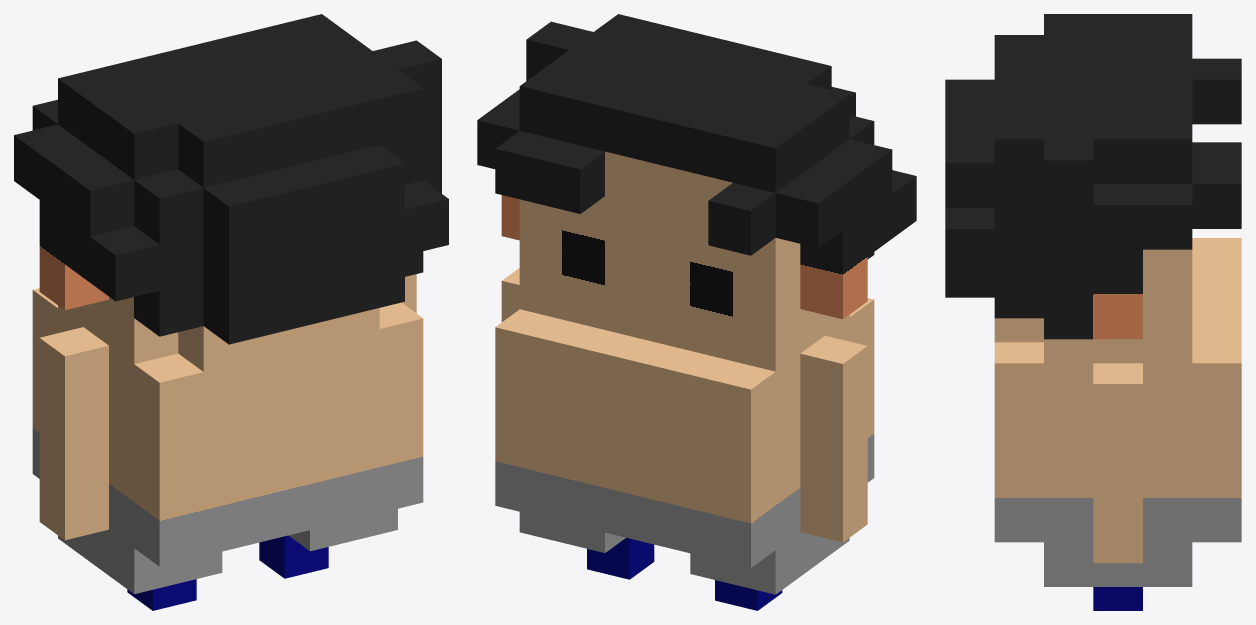
File: chr_naked1.dae
3 views of the same model, side by side, from view 1: azimuth 30°, elevation 25°; view 2: azimuth 150°, elevation 25°; view 3: azimuth 270°, elevation 25° (orthographic). The views are drawn at different scales.
Visible parts, largest first — view 1: chr_naked1; view 2: chr_naked1; view 3: chr_naked1.
Boxes of the visible parts, x1,y1,x2,y2 form: chr_naked1: [14, 14, 448, 610]; chr_naked1: [477, 14, 916, 610]; chr_naked1: [945, 14, 1241, 610].
Size of the model in its own units: 0.8 by 0.6 by 1.1.
Materials: 1 (1 with a texture image).
